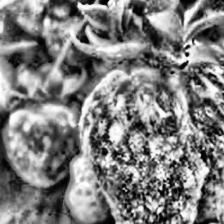Powdery Mildew Fruit: (70, 29, 224, 224), (0, 93, 81, 188), (42, 0, 89, 62), (0, 102, 12, 160)
